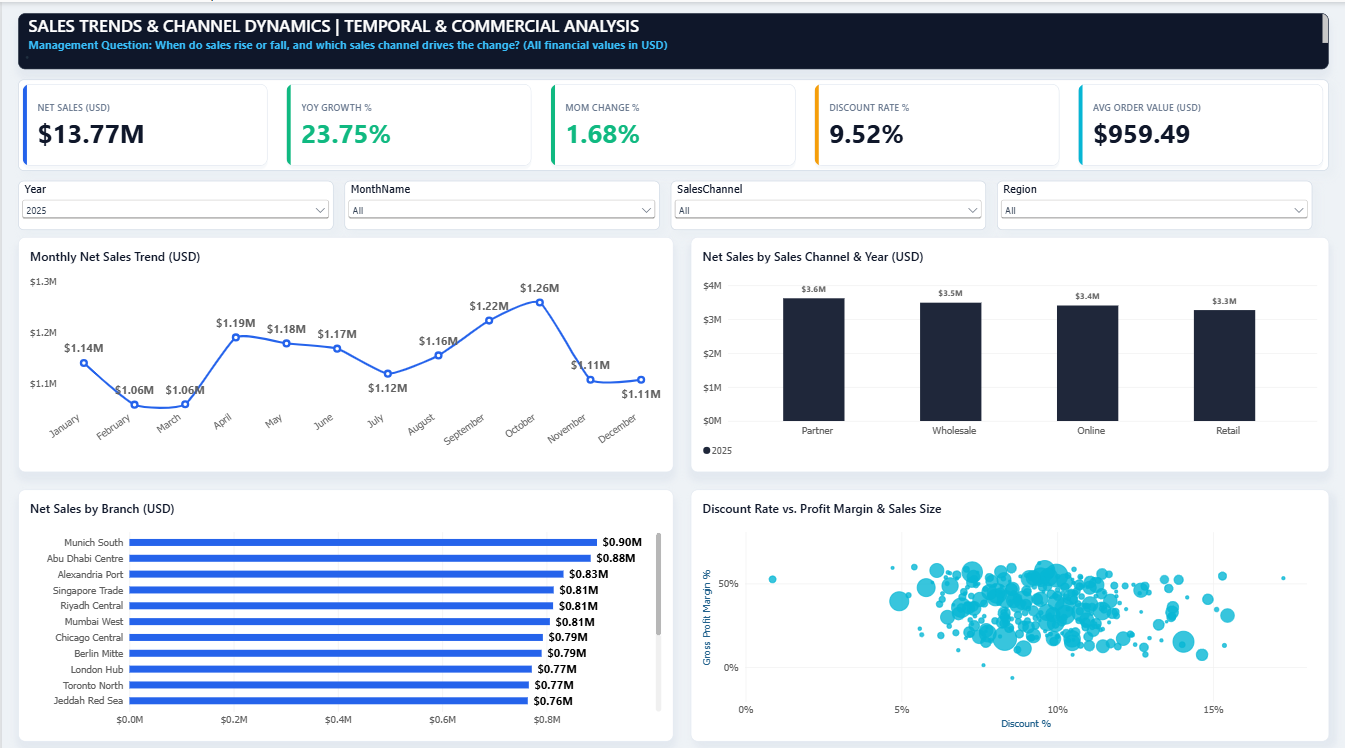

The page's visual inventory and layout, read from the dashboard file:
{"tool":"powerbi","page":{"name":"Sales Trends & Channel","canvas":[1920,1080],"ordinal":1},"visuals":[{"type":"textbox","box":[24,16,1872,80],"z":0},{"type":"cardVisual","fields":{"Data":["_All Measures.Net Sales USD","_All Measures.Sales YoY Growth %","_All Measures.Sales MoM Growth %","_All Measures.Discount %","_All Measures.Average Order Value (USD)"]},"box":[24,110,1872,130],"z":1000},{"type":"slicer","fields":{"Values":["Dim_Date.Year"]},"box":[24,256,450,70],"z":2000},{"type":"slicer","fields":{"Values":["Dim_Date.MonthName"]},"box":[490,256,450,70],"z":3000},{"type":"slicer","fields":{"Values":["Fact_Sales.SalesChannel"]},"box":[956,256,450,70],"z":4000},{"type":"slicer","fields":{"Values":["Dim_Branches.Region"]},"box":[1422,256,450,70],"z":5000},{"type":"lineChart","title":"Monthly Net Sales Trend (USD)","fields":{"Category":["Dim_Date.MonthName"],"Y":["_All Measures.Net Sales USD"]},"box":[24,336,936,336],"z":6000},{"type":"clusteredColumnChart","title":"Net Sales by Sales Channel & Year (USD)","fields":{"Category":["Fact_Sales.SalesChannel"],"Series":["Dim_Date.Year"],"Y":["_All Measures.Net Sales USD"]},"box":[984,336,912,336],"z":6001},{"type":"clusteredBarChart","title":"Net Sales by Branch (USD)","fields":{"Category":["Dim_Branches.BranchName"],"Y":["_All Measures.Net Sales USD"]},"box":[24,696,936,360],"z":6002},{"type":"scatterChart","title":"Discount Rate vs. Profit Margin & Sales Size","fields":{"Category":["Dim_Products.ProductName"],"Size":["_All Measures.Net Sales USD"],"X":["_All Measures.Discount %"],"Y":["_All Measures.Gross Profit Margin %"]},"box":[984,696,912,360],"z":6003}]}

Visuals, with their boxes in screenshot pixels (x1, y1, x2, y2), scaled from the page's 1920x1080 canvas onto the 1345x748 screenshot:
textbox: detection(17, 11, 1328, 66)
cardVisual - _All Measures.Net Sales USD x _All Measures.Sales YoY Growth %: detection(17, 76, 1328, 166)
slicer - Dim_Date.Year: detection(17, 177, 332, 226)
slicer - Dim_Date.MonthName: detection(343, 177, 658, 226)
slicer - Fact_Sales.SalesChannel: detection(670, 177, 985, 226)
slicer - Dim_Branches.Region: detection(996, 177, 1311, 226)
"Monthly Net Sales Trend (USD)" lineChart: detection(17, 233, 672, 465)
"Net Sales by Sales Channel & Year (USD)" clusteredColumnChart: detection(689, 233, 1328, 465)
"Net Sales by Branch (USD)" clusteredBarChart: detection(17, 482, 672, 731)
"Discount Rate vs. Profit Margin & Sales Size" scatterChart: detection(689, 482, 1328, 731)
